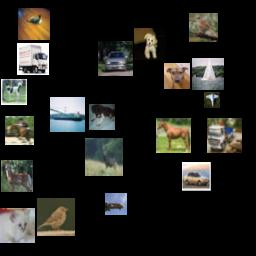airplane: (105, 193, 127, 215), (204, 92, 220, 108)
automobile: (98, 41, 133, 76), (182, 162, 211, 191)
bird: (37, 198, 75, 236), (189, 13, 218, 42)
cat: (0, 208, 35, 243), (18, 8, 50, 40)
deer: (85, 138, 123, 176), (1, 160, 33, 192)
dog: (134, 28, 166, 60), (89, 104, 115, 130), (1, 79, 27, 105), (164, 63, 190, 89)
ship: (50, 97, 85, 132), (192, 58, 224, 90)
truck: (207, 118, 242, 153), (17, 43, 49, 75)
